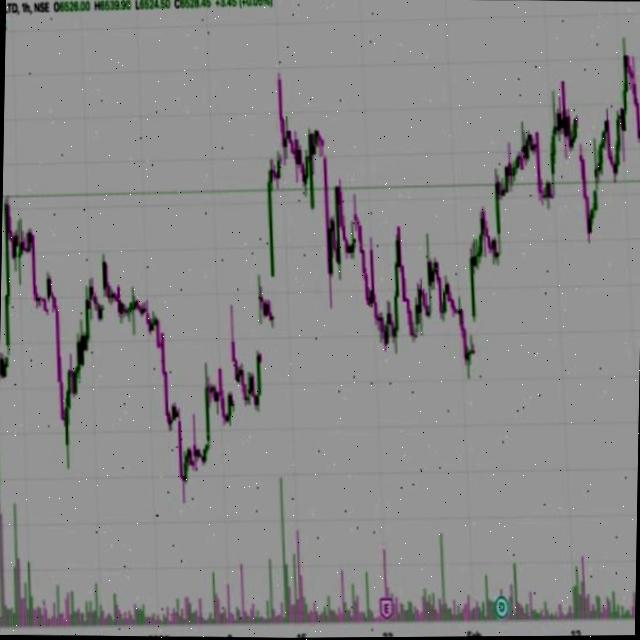Gap Up: (465, 308, 483, 353), (255, 313, 269, 366), (263, 264, 276, 309), (228, 368, 240, 413)
